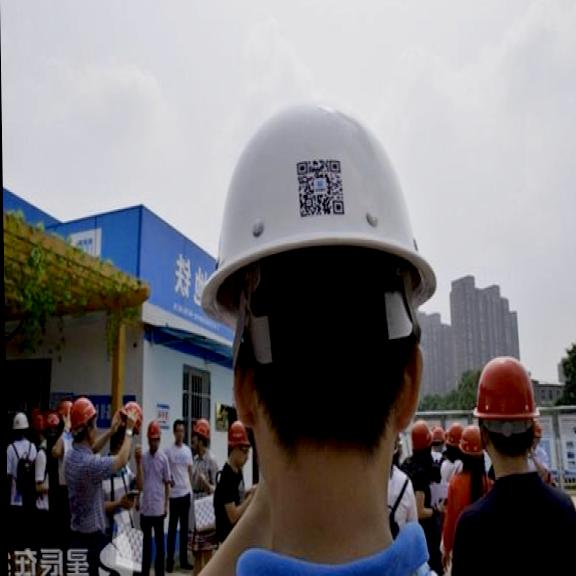safety_vest: (62, 448, 108, 542)
